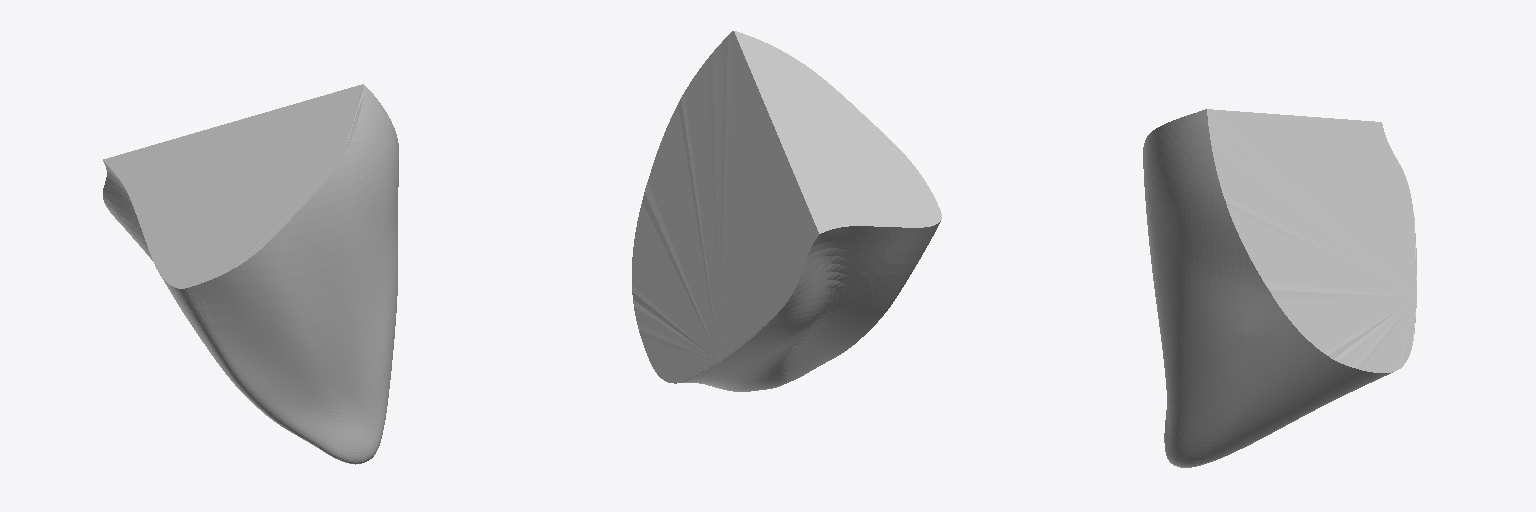
Rendered from liver6.obj.
The picture shows the model from 3 angles: view 1: azimuth 30°, elevation 25°; view 2: azimuth 150°, elevation 25°; view 3: azimuth 270°, elevation 25°; orthographic projection.
Visible parts, largest first — view 1: liver.006; view 2: liver.006; view 3: liver.006.
Part boxes in pixels (x1,y1,x2,y2): liver.006: (103, 84, 398, 464); liver.006: (632, 31, 941, 391); liver.006: (1143, 109, 1416, 467).
Bounding box in the file's own units: 0.059 × 0.0793 × 0.0543.